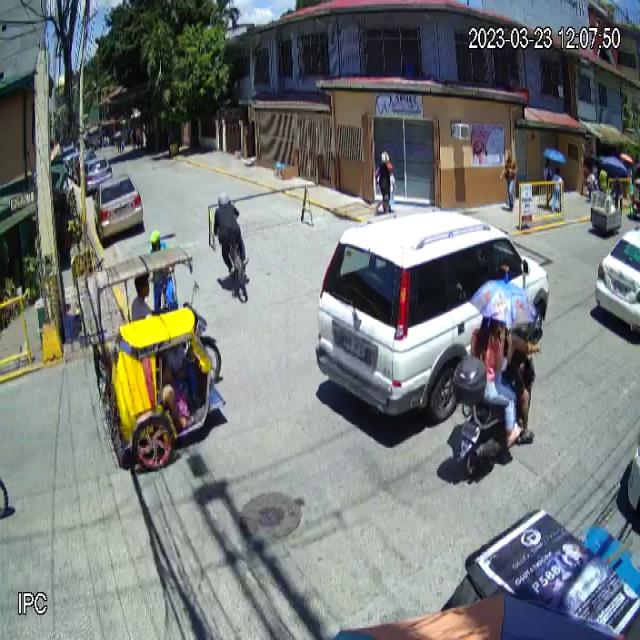Car: (314, 210, 550, 421)
Tricycle: (92, 243, 227, 475)
